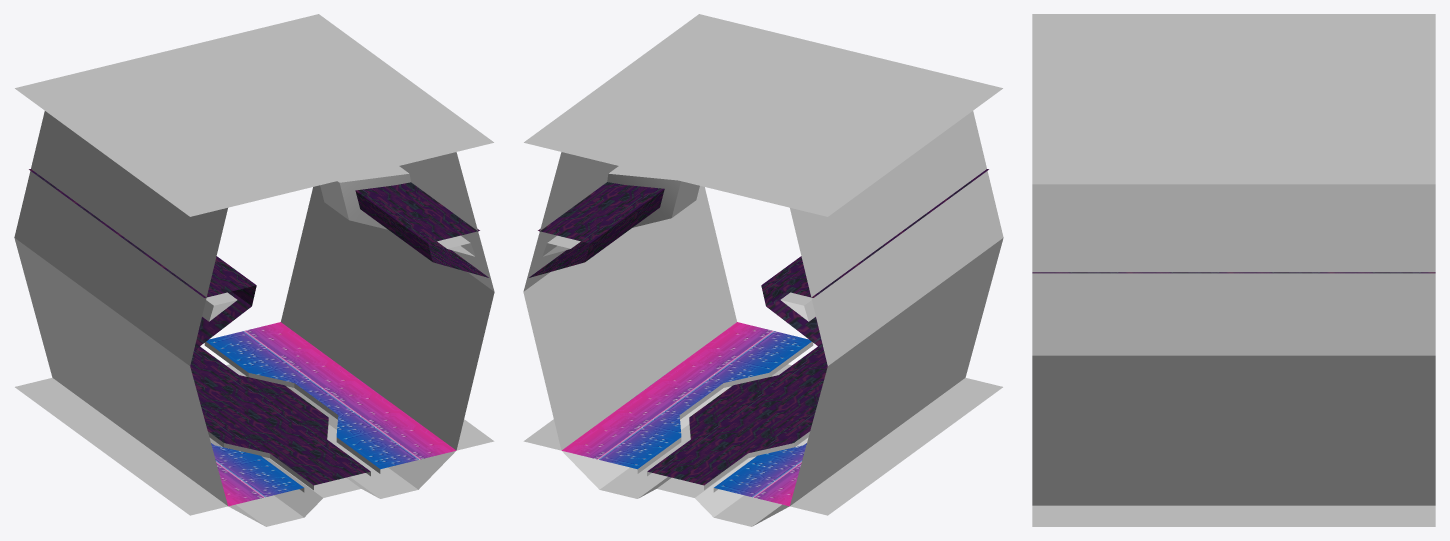
Rendered from cbroad04.FBX.
3 views of the same model, side by side, from view 1: azimuth 30°, elevation 25°; view 2: azimuth 150°, elevation 25°; view 3: azimuth 270°, elevation 25° (orthographic). The views are drawn at different scales.
Parts seen in each view (by area): view 1: tower4, tower3, tower2, glass2, cbroad04, glass1, glass5, nodule, tower1, glass3, glass4; view 2: tower4, tower3, tower2, glass2, cbroad04, glass1, glass5, nodule, tower1, glass3, glass4; view 3: tower2, tower4, tower3, cbroad04, glass5.
Boxes of the visible parts, bbox=[...] form: tower4: bbox=[15, 14, 493, 216]; tower3: bbox=[14, 185, 494, 505]; tower2: bbox=[14, 111, 494, 365]; glass2: bbox=[206, 322, 455, 506]; cbroad04: bbox=[15, 364, 494, 526]; glass1: bbox=[190, 346, 370, 485]; glass5: bbox=[29, 169, 488, 349]; nodule: bbox=[202, 235, 475, 517]; tower1: bbox=[320, 166, 410, 229]; glass3: bbox=[204, 342, 380, 492]; glass4: bbox=[208, 421, 370, 490]; tower4: bbox=[524, 14, 1002, 216]; tower3: bbox=[523, 186, 1003, 505]; tower2: bbox=[523, 111, 1003, 365]; glass2: bbox=[562, 322, 811, 506]; cbroad04: bbox=[523, 364, 1002, 526]; glass1: bbox=[647, 346, 827, 485]; glass5: bbox=[529, 169, 988, 349]; nodule: bbox=[542, 235, 815, 517]; tower1: bbox=[607, 166, 699, 227]; glass3: bbox=[637, 342, 813, 492]; glass4: bbox=[647, 421, 809, 490]; tower2: bbox=[1032, 184, 1435, 355]; tower4: bbox=[1032, 14, 1435, 184]; tower3: bbox=[1032, 355, 1435, 505]; cbroad04: bbox=[1032, 505, 1435, 526]; glass5: bbox=[1032, 272, 1435, 273].
Size of the model in its own units: 64 by 66 by 64.
